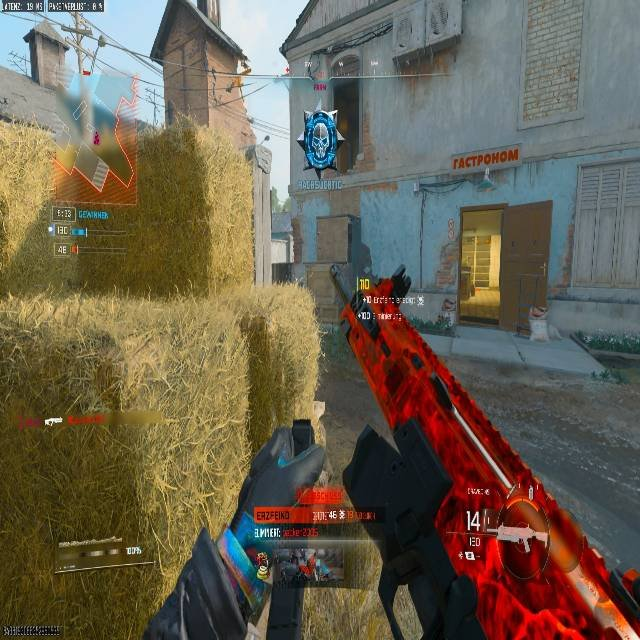player: (347, 286, 387, 368), (302, 106, 340, 176)
